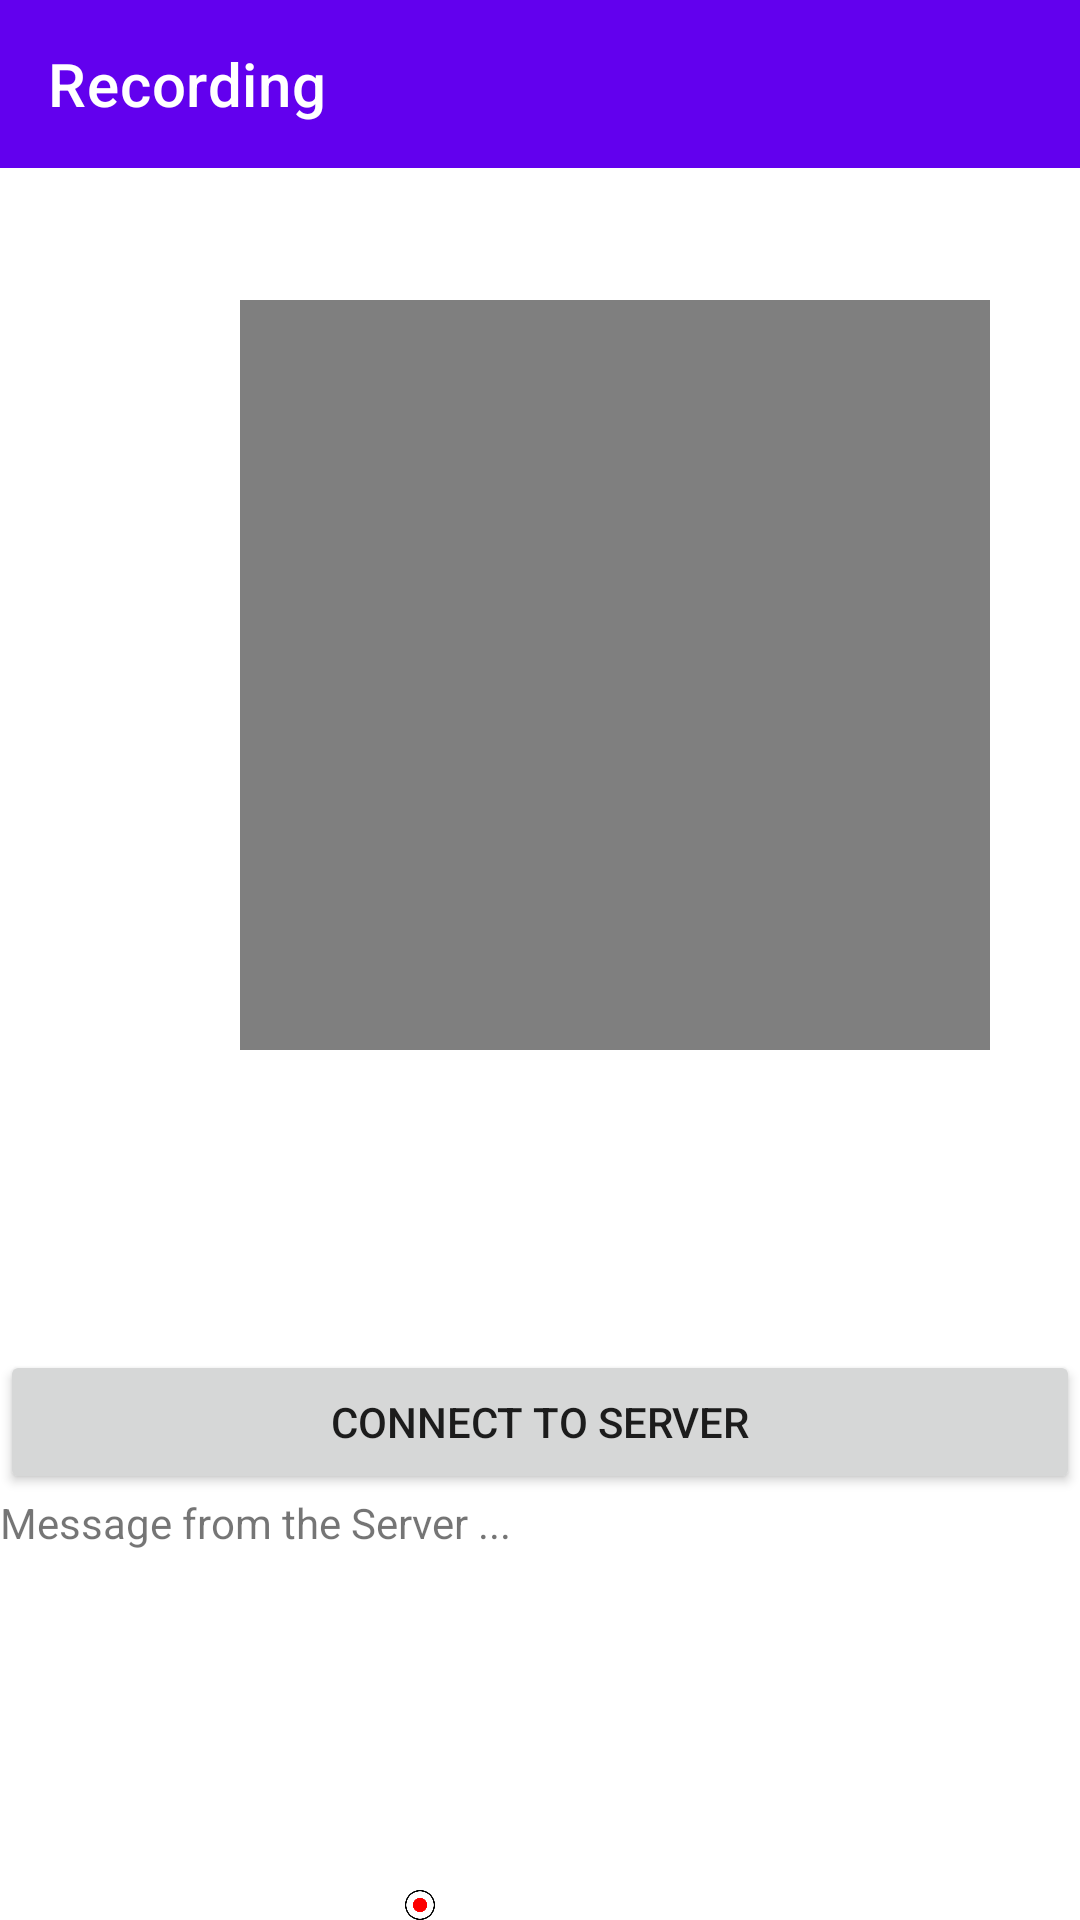

Icons on this 1080x1920 Android screen, each with its box as (x1, y1, x2, y2):
recording: (405, 1890, 435, 1920)
